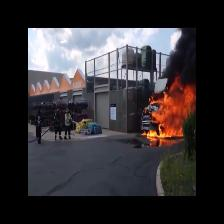fire: (152, 86, 197, 137)
smoke: (174, 30, 195, 78)
